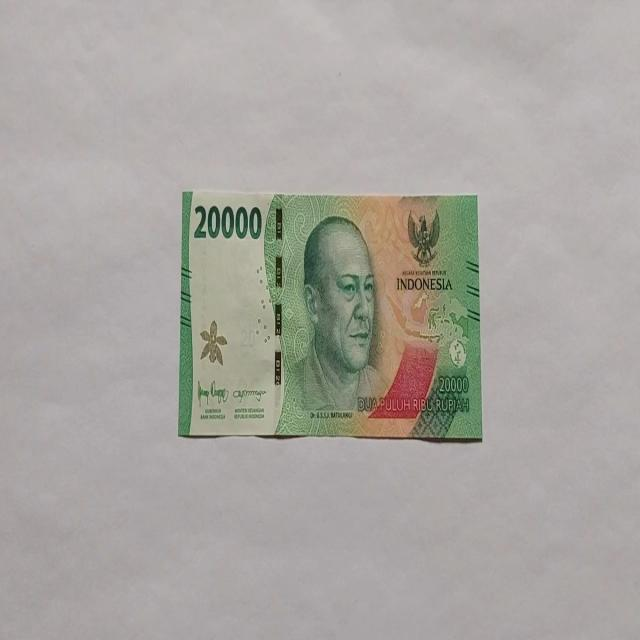dua puluh ribu rupiah: (178, 188, 482, 441), (277, 213, 392, 434)
